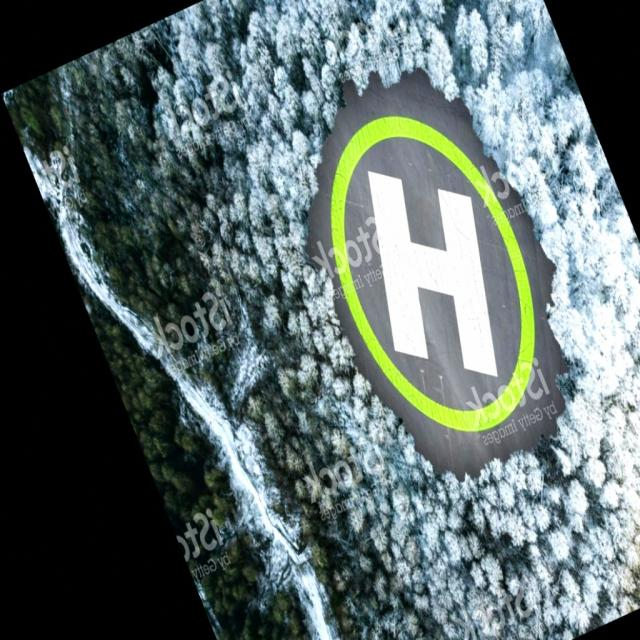helipad: (328, 108, 538, 433)
